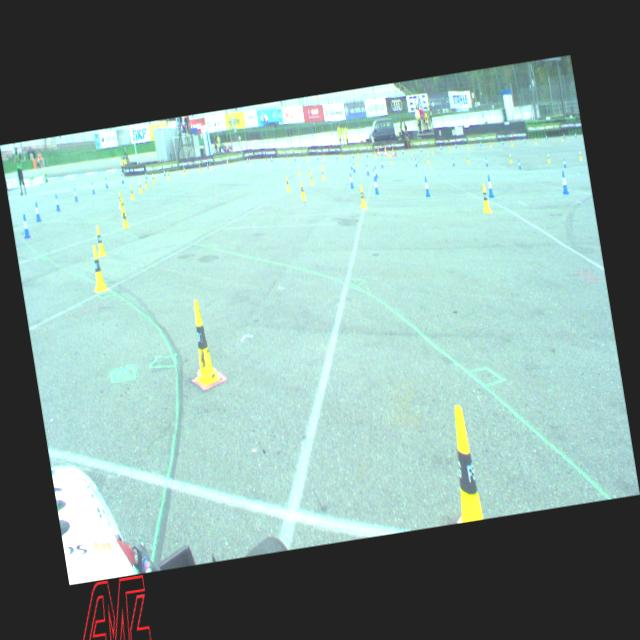blue_cone: (559, 170, 569, 194), (21, 214, 31, 238), (486, 175, 494, 198), (34, 202, 42, 222), (423, 176, 431, 196), (54, 194, 60, 210), (373, 178, 379, 194), (348, 173, 354, 188), (372, 168, 377, 181), (74, 188, 78, 200), (374, 166, 378, 178), (366, 164, 370, 175), (562, 158, 566, 168), (352, 162, 356, 172), (92, 182, 95, 194), (105, 177, 108, 188), (414, 158, 418, 166), (518, 160, 521, 170), (121, 174, 124, 183), (350, 160, 353, 169), (207, 160, 210, 169), (485, 158, 488, 166), (452, 157, 455, 165), (381, 160, 384, 168), (164, 168, 166, 176)
large_orange_cone: (384, 146, 388, 156), (377, 147, 380, 157), (392, 146, 394, 156)
yellow_cone: (438, 404, 484, 522), (184, 298, 222, 387), (89, 245, 108, 291), (95, 225, 106, 256), (480, 183, 491, 213), (358, 184, 367, 208), (120, 206, 129, 228), (299, 180, 306, 200), (120, 198, 126, 216), (285, 175, 290, 191), (118, 191, 122, 208), (130, 185, 134, 199), (138, 180, 142, 193), (310, 172, 314, 185), (321, 167, 325, 179), (152, 173, 156, 184), (144, 177, 148, 188), (308, 166, 311, 177), (579, 151, 582, 160), (183, 167, 186, 176), (355, 157, 358, 166), (167, 170, 170, 179), (209, 161, 212, 170), (466, 154, 469, 163), (426, 154, 429, 163), (321, 160, 324, 168), (547, 154, 550, 162), (509, 154, 512, 162), (199, 165, 202, 172), (298, 166, 300, 174), (390, 156, 392, 164)
